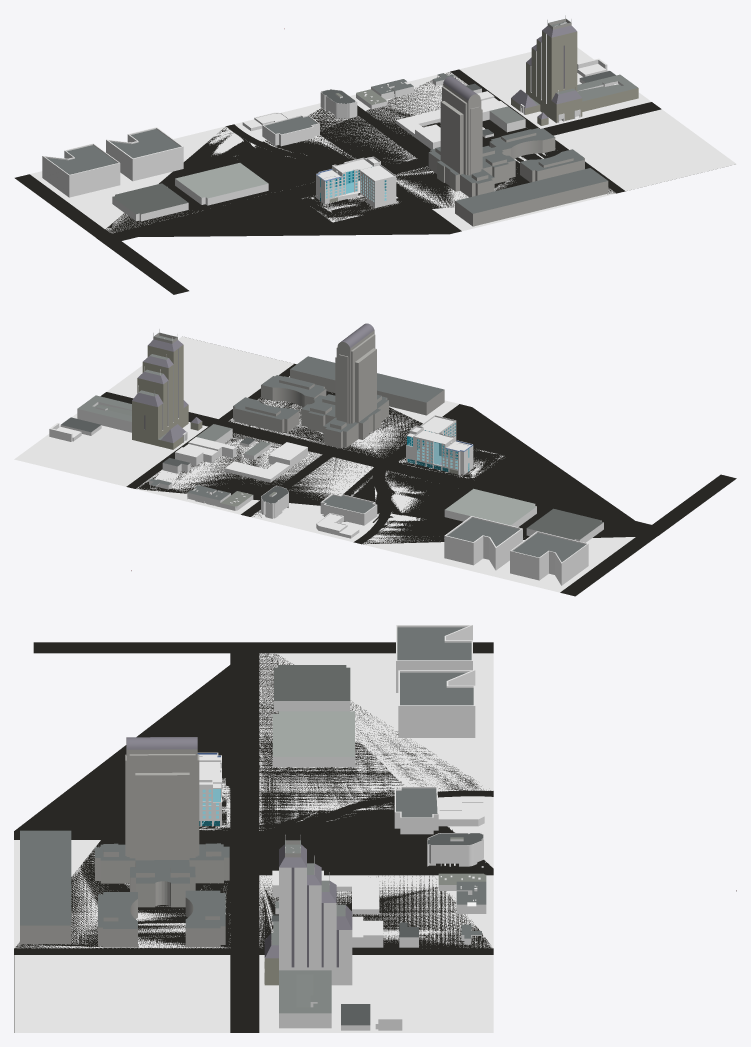
File: ORLANDO.obj
3 renders of one model, top to bottom at view 1: azimuth 30°, elevation 25°; view 2: azimuth 150°, elevation 25°; view 3: azimuth 270°, elevation 25°, orthographic. The views are drawn at different scales.
Parts seen in each view (by area): view 1: Mesh2 Downtown_Orlando_2_1 Model, Mesh21 G_217057_1_HIS_H2S_ORL_MAGNOLIA1 Model, Mesh18 Downtown_Orlando_2_1 Model, Mesh3 Downtown_Orlando_2_1 Model, Mesh4 Downtown_Orlando_2_1 Model, Mesh17 Downtown_Orlando_2_1 Model, Mesh5 Downtown_Orlando_2_1 Model, Mesh20 Downtown_Orlando_2_1 Model, Mesh6 Downtown_Orlando_2_1 Model, Mesh19 Downtown_Orlando_2_1 Model; view 2: Mesh2 Downtown_Orlando_2_1 Model, Mesh18 Downtown_Orlando_2_1 Model, Mesh21 G_217057_1_HIS_H2S_ORL_MAGNOLIA1 Model, Mesh3 Downtown_Orlando_2_1 Model, Mesh4 Downtown_Orlando_2_1 Model, Mesh17 Downtown_Orlando_2_1 Model, Mesh5 Downtown_Orlando_2_1 Model, Mesh20 Downtown_Orlando_2_1 Model, Mesh19 Downtown_Orlando_2_1 Model, Mesh6 Downtown_Orlando_2_1 Model; view 3: Mesh2 Downtown_Orlando_2_1 Model, Mesh18 Downtown_Orlando_2_1 Model, Mesh3 Downtown_Orlando_2_1 Model, Mesh4 Downtown_Orlando_2_1 Model, Mesh21 G_217057_1_HIS_H2S_ORL_MAGNOLIA1 Model, Mesh20 Downtown_Orlando_2_1 Model, Mesh6 Downtown_Orlando_2_1 Model, Mesh17 Downtown_Orlando_2_1 Model, Mesh5 Downtown_Orlando_2_1 Model.
Part boxes in pixels (left/top/right/bottom): Mesh2 Downtown_Orlando_2_1 Model: left=14, top=15, right=736, bottom=294; Mesh21 G_217057_1_HIS_H2S_ORL_MAGNOLIA1 Model: left=302, top=156, right=398, bottom=222; Mesh18 Downtown_Orlando_2_1 Model: left=428, top=86, right=494, bottom=197; Mesh3 Downtown_Orlando_2_1 Model: left=175, top=163, right=268, bottom=205; Mesh4 Downtown_Orlando_2_1 Model: left=112, top=183, right=188, bottom=221; Mesh17 Downtown_Orlando_2_1 Model: left=396, top=109, right=440, bottom=149; Mesh5 Downtown_Orlando_2_1 Model: left=356, top=79, right=413, bottom=109; Mesh20 Downtown_Orlando_2_1 Model: left=443, top=76, right=480, bottom=175; Mesh6 Downtown_Orlando_2_1 Model: left=320, top=89, right=357, bottom=118; Mesh19 Downtown_Orlando_2_1 Model: left=470, top=107, right=479, bottom=175; Mesh2 Downtown_Orlando_2_1 Model: left=14, top=329, right=736, bottom=596; Mesh18 Downtown_Orlando_2_1 Model: left=323, top=334, right=388, bottom=448; Mesh21 G_217057_1_HIS_H2S_ORL_MAGNOLIA1 Model: left=399, top=415, right=503, bottom=478; Mesh3 Downtown_Orlando_2_1 Model: left=444, top=488, right=536, bottom=527; Mesh4 Downtown_Orlando_2_1 Model: left=526, top=508, right=603, bottom=542; Mesh17 Downtown_Orlando_2_1 Model: left=224, top=442, right=307, bottom=482; Mesh5 Downtown_Orlando_2_1 Model: left=187, top=485, right=253, bottom=510; Mesh20 Downtown_Orlando_2_1 Model: left=337, top=323, right=374, bottom=423; Mesh19 Downtown_Orlando_2_1 Model: left=338, top=354, right=348, bottom=423; Mesh6 Downtown_Orlando_2_1 Model: left=261, top=485, right=288, bottom=518; Mesh2 Downtown_Orlando_2_1 Model: left=14, top=625, right=493, bottom=1032; Mesh18 Downtown_Orlando_2_1 Model: left=94, top=754, right=229, bottom=883; Mesh3 Downtown_Orlando_2_1 Model: left=272, top=711, right=354, bottom=766; Mesh4 Downtown_Orlando_2_1 Model: left=274, top=665, right=350, bottom=711; Mesh21 G_217057_1_HIS_H2S_ORL_MAGNOLIA1 Model: left=197, top=752, right=230, bottom=830; Mesh20 Downtown_Orlando_2_1 Model: left=126, top=737, right=197, bottom=856; Mesh6 Downtown_Orlando_2_1 Model: left=427, top=832, right=483, bottom=866; Mesh17 Downtown_Orlando_2_1 Model: left=272, top=870, right=379, bottom=914; Mesh5 Downtown_Orlando_2_1 Model: left=438, top=873, right=486, bottom=913.
Bounding box in the file's own units: 774 × 127 × 605.
26 materials, 3 textured.
